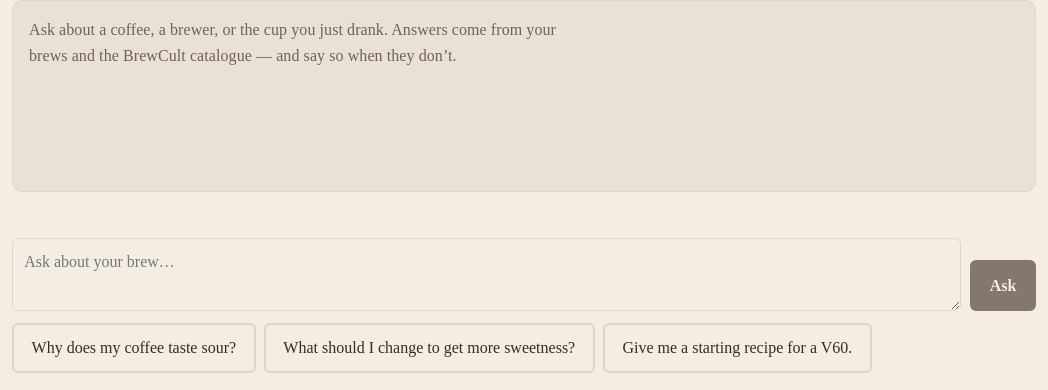
assistant chat › shows tool activity as a quiet status line, not JSON
Step 1. Type "what should I change?" into the text box named "Ask the brew assistant" → (486, 275), box [12,238,960,311]
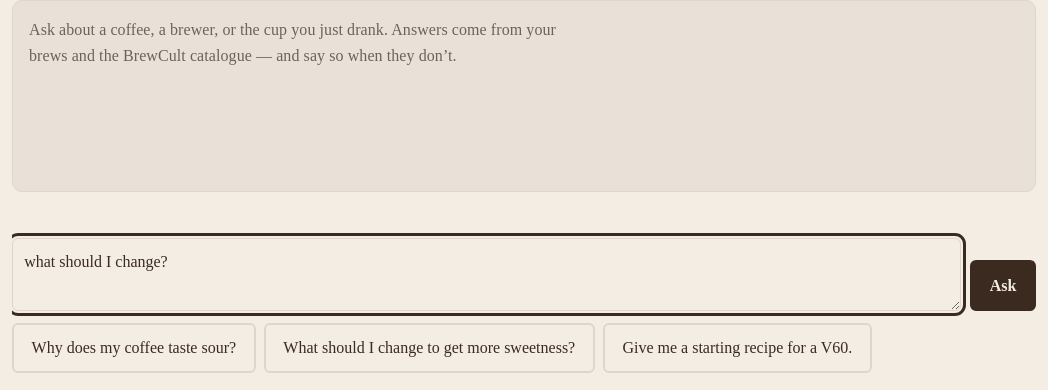
Step 2. Click the button "Ask" → (1003, 286), box [970,260,1036,311]
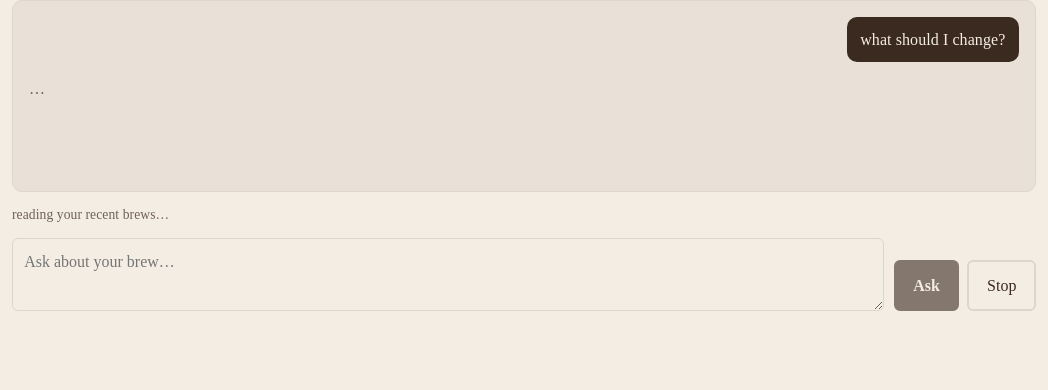
expect the text "reading your recent brews…" is shown: met, box [12,207,169,222]
